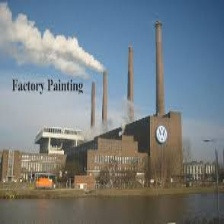smoke: (1, 6, 109, 76)
